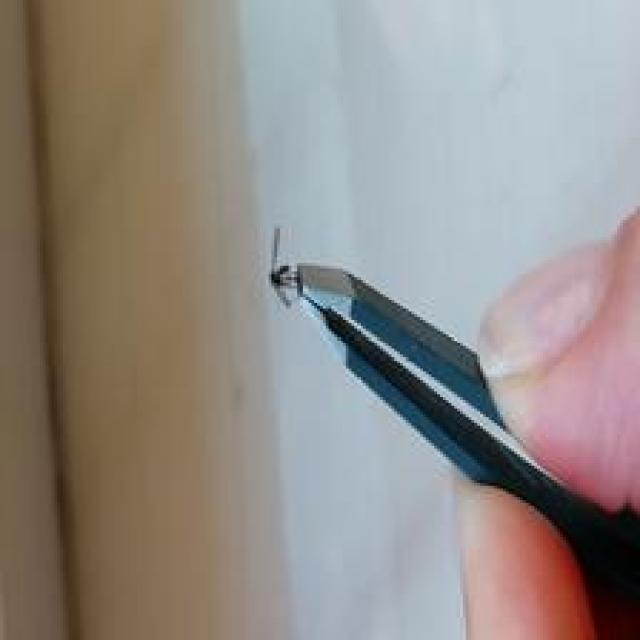Aedes albopictus: (268, 228, 640, 625)
